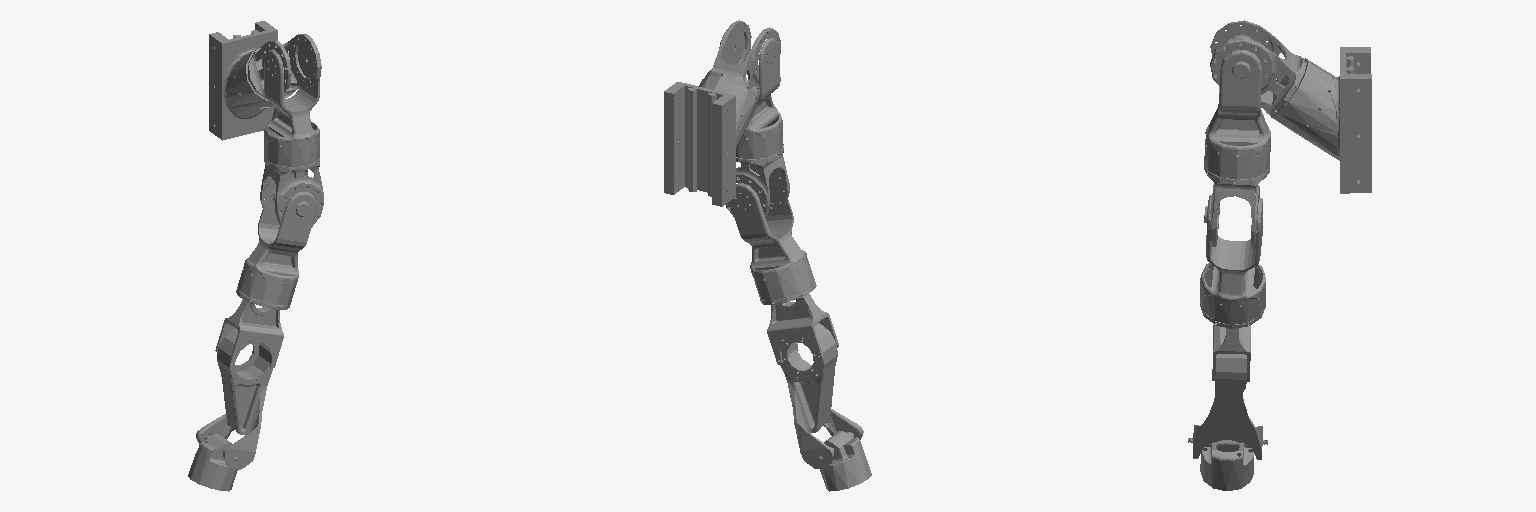
robot.urdf — cadtourdf:
<?xml version="1.0" encoding="UTF-8" standalone="yes"?>
<robot xmlns="http://www.ros.org" name="cadtourdf">
    <link name="Full_arm_assembly_objects_1">
        <inertial>
            <origin xyz="0.14825478496683953 -0.19608051152219394 0.02848715505235634" rpy="0.4606420867906236 1.5475077785970033 -2.4448418688901468"/>
            <mass value="1.0"/>
            <inertia ixx="1.0" ixy="1.0" ixz="1.0" iyy="1.0" iyz="1.0" izz="1.0"/>
        </inertial>
        <visual>
            <origin xyz="0.14825478496683953 -0.19608051152219394 0.02848715505235634" rpy="2.930065924609552 1.5265910824606057 0.0"/>
            <geometry>
                <mesh filename="package://cadtourdf/meshes/Full_arm_assembly_objects_1.stl"/>
            </geometry>
            <material name="material">
                <color rgba="0.6078431372549019 0.6078431372549019 0.6078431372549019 1.0"/>
            </material>
        </visual>
        <collision name="collision">
            <origin xyz="0 0 0" rpy="0.0 -0.0 0.0"/>
        </collision>
    </link>
    <link name="Full_arm_assembly_objects_2">
        <inertial>
            <origin xyz="0.08164181475390311 0.02919123895167336 0.11195876517917515" rpy="0.0 -0.0 0.0"/>
            <mass value="1.0"/>
            <inertia ixx="1.0" ixy="1.0" ixz="1.0" iyy="1.0" iyz="1.0" izz="1.0"/>
        </inertial>
        <visual>
            <origin xyz="0.08164181475390311 0.02919123895167336 0.11195876517917515" rpy="0.024912425269248493 0.06383877616341817 -2.1728304064445934E-19"/>
            <geometry>
                <mesh filename="package://cadtourdf/meshes/Full_arm_assembly_objects_2.stl"/>
            </geometry>
            <material name="material">
                <color rgba="0.6078431372549019 0.6078431372549019 0.6078431372549019 1.0"/>
            </material>
        </visual>
        <collision name="collision">
            <origin xyz="0 0 0" rpy="0.0 -0.0 0.0"/>
        </collision>
    </link>
    <link name="Full_arm_assembly_objects_7">
        <inertial>
            <origin xyz="0.010850971352341879 0.22876306200603636 0.10345274430123955" rpy="0.03773540539250354 -0.021237470378466225 -0.0024089581995568876"/>
            <mass value="1.0"/>
            <inertia ixx="1.0" ixy="1.0" ixz="1.0" iyy="1.0" iyz="1.0" izz="1.0"/>
        </inertial>
        <visual>
            <origin xyz="0.010850971352341879 0.22876306200603636 0.10345274430123955" rpy="0.06267352080905418 0.04255585913443036 -4.340738638118768E-19"/>
            <geometry>
                <mesh filename="package://cadtourdf/meshes/Full_arm_assembly_objects_7.stl"/>
            </geometry>
            <material name="material">
                <color rgba="0.6078431372549019 0.6078431372549019 0.6078431372549019 1.0"/>
            </material>
        </visual>
        <collision name="collision">
            <origin xyz="0 0 0" rpy="0.0 -0.0 0.0"/>
        </collision>
    </link>
    <link name="Full_arm_assembly_objects_4">
        <inertial>
            <origin xyz="0.14825478496683955 -0.19608051152219397 0.028487155052356355" rpy="1.6098130536934434 -0.060250956069110524 -1.6347118831651641"/>
            <mass value="1.0"/>
            <inertia ixx="1.0" ixy="1.0" ixz="1.0" iyy="1.0" iyz="1.0" izz="1.0"/>
        </inertial>
        <visual>
            <origin xyz="0.14825478496683955 -0.19608051152219397 0.028487155052356355" rpy="2.930065924609552 1.5265910824606057 -3.361232057189682E-16"/>
            <geometry>
                <mesh filename="package://cadtourdf/meshes/Full_arm_assembly_objects_4.stl"/>
            </geometry>
            <material name="material">
                <color rgba="0.6078431372549019 0.6078431372549019 0.6078431372549019 1.0"/>
            </material>
        </visual>
        <collision name="collision">
            <origin xyz="0 0 0" rpy="0.0 -0.0 0.0"/>
        </collision>
    </link>
    <link name="Full_arm_assembly_objects_6">
        <inertial>
            <origin xyz="0.01311880359273214 0.6934084995195854 -0.27074839475040463" rpy="-1.5496914654377596 0.009241380414398157 0.355466737212434"/>
            <mass value="1.0"/>
            <inertia ixx="1.0" ixy="1.0" ixz="1.0" iyy="1.0" iyz="1.0" izz="1.0"/>
        </inertial>
        <visual>
            <origin xyz="0.01311880359273214 0.6934084995195854 -0.27074839475040463" rpy="-1.5088836299874304 -0.042085667351902944 -5.556034830792788E-17"/>
            <geometry>
                <mesh filename="package://cadtourdf/meshes/Full_arm_assembly_objects_6.stl"/>
            </geometry>
            <material name="material">
                <color rgba="0.6078431372549019 0.6078431372549019 0.6078431372549019 1.0"/>
            </material>
        </visual>
        <collision name="collision">
            <origin xyz="0 0 0" rpy="0.0 -0.0 0.0"/>
        </collision>
    </link>
    <link name="Full_arm_assembly_objects_5">
        <inertial>
            <origin xyz="0.013118803592732209 -0.6934084995195855 0.18074839475040508" rpy="1.5919011881520353 -0.009241380414397725 -1.9262630640073295"/>
            <mass value="1.0"/>
            <inertia ixx="1.0" ixy="1.0" ixz="1.0" iyy="1.0" iyz="1.0" izz="1.0"/>
        </inertial>
        <visual>
            <origin xyz="0.013118803592732209 -0.6934084995195855 0.18074839475040508" rpy="1.632709023602363 0.04208566735190293 -5.556034830792787E-17"/>
            <geometry>
                <mesh filename="package://cadtourdf/meshes/Full_arm_assembly_objects_5.stl"/>
            </geometry>
            <material name="material">
                <color rgba="0.6078431372549019 0.6078431372549019 0.6078431372549019 1.0"/>
            </material>
        </visual>
        <collision name="collision">
            <origin xyz="0 0 0" rpy="0.0 -0.0 0.0"/>
        </collision>
    </link>
    <link name="Full_arm_assembly_objects_11">
        <inertial>
            <origin xyz="0.013118803592732209 -0.6934084995195848 0.20126839475040445" rpy="1.5919011881520353 -0.009241380414397754 -0.3554667372124328"/>
            <mass value="1.0"/>
            <inertia ixx="1.0" ixy="1.0" ixz="1.0" iyy="1.0" iyz="1.0" izz="1.0"/>
        </inertial>
        <visual>
            <origin xyz="0.013118803592732209 -0.6934084995195848 0.20126839475040445" rpy="1.632709023602363 0.04208566735190294 5.556034830792788E-17"/>
            <geometry>
                <mesh filename="package://cadtourdf/meshes/Full_arm_assembly_objects_11.stl"/>
            </geometry>
            <material name="material">
                <color rgba="0.611764705882353 0.611764705882353 0.611764705882353 1.0"/>
            </material>
        </visual>
        <collision name="collision">
            <origin xyz="0 0 0" rpy="0.0 -0.0 0.0"/>
        </collision>
    </link>
    <link name="Full_arm_assembly_objects_9">
        <inertial>
            <origin xyz="0.228158433072525 -0.012889458887841695 -0.38743892933983676" rpy="-3.123728068059871 0.3372237146760917 -1.6226819447193261"/>
            <mass value="1.0"/>
            <inertia ixx="1.0" ixy="1.0" ixz="1.0" iyy="1.0" iyz="1.0" izz="1.0"/>
        </inertial>
        <visual>
            <origin xyz="-0.22895898999490677 -0.006126189344906066 -0.38544307807983036" rpy="-3.0804469547449624 -0.018211906720774836 -1.5707963267948966"/>
            <geometry>
                <mesh filename="package://cadtourdf/meshes/Full_arm_assembly_objects_10.stl"/>
            </geometry>
            <material name="material">
                <color rgba="0.6078431372549019 0.6078431372549019 0.6078431372549019 1.0"/>
            </material>
        </visual>
        <visual>
            <origin xyz="0.228158433072525 -0.012889458887841695 -0.38743892933983676" rpy="-3.078912959018256 0.018211907922531415 1.5707963275496193"/>
            <geometry>
                <mesh filename="package://cadtourdf/meshes/Full_arm_assembly_objects_9.stl"/>
            </geometry>
            <material name="material">
                <color rgba="0.6078431372549019 0.6078431372549019 0.6078431372549019 1.0"/>
            </material>
        </visual>
        <collision name="collision">
            <origin xyz="0 0 0" rpy="0.0 -0.0 0.0"/>
        </collision>
    </link>
    <link name="Full_arm_assembly_objects_3">
        <inertial>
            <origin xyz="0.0065820729423399504 -0.048961325255950816 0.1509371679369574" rpy="2.1816658196716867 0.0034860496814112696 -0.05231052237339786"/>
            <mass value="1.0"/>
            <inertia ixx="1.0" ixy="1.0" ixz="1.0" iyy="1.0" iyz="1.0" izz="1.0"/>
        </inertial>
        <visual>
            <origin xyz="0.0065820729423399504 -0.048961325255950816 0.1509371679369574" rpy="2.2058029179300256 -0.033118664244788994 -1.3885402185169675E-17"/>
            <geometry>
                <mesh filename="package://cadtourdf/meshes/Full_arm_assembly_objects_3.stl"/>
            </geometry>
            <material name="material">
                <color rgba="0.6078431372549019 0.6078431372549019 0.6078431372549019 1.0"/>
            </material>
        </visual>
        <collision name="collision">
            <origin xyz="0 0 0" rpy="0.0 -0.0 0.0"/>
        </collision>
    </link>
    <link name="Full_arm_assembly_objects_8">
        <inertial>
            <origin xyz="0.012814925744445038 -0.6936130159249052 0.1627483947504045" rpy="1.5919011881520324 -0.009241380414398735 -0.35546673721243394"/>
            <mass value="1.0"/>
            <inertia ixx="1.0" ixy="1.0" ixz="1.0" iyy="1.0" iyz="1.0" izz="1.0"/>
        </inertial>
        <visual>
            <origin xyz="0.012814925744445038 -0.6936130159249052 0.1627483947504045" rpy="1.632709023602363 0.042085667351902924 5.556034830792787E-17"/>
            <geometry>
                <mesh filename="package://cadtourdf/meshes/Full_arm_assembly_objects_8.stl"/>
            </geometry>
            <material name="material">
                <color rgba="0.6078431372549019 0.6078431372549019 0.6078431372549019 1.0"/>
            </material>
        </visual>
        <collision name="collision">
            <origin xyz="0 0 0" rpy="0.0 -0.0 0.0"/>
        </collision>
    </link>
    <joint name="Revolute 1" type="revolute">
        <origin xyz="0.07252985614512537 -0.12108773716439052 0.1579312200714562" rpy="-2.1823663328590364 0.04484241983375603 -0.027169550450738187"/>
        <parent link="Full_arm_assembly_objects_2"/>
        <child link="Full_arm_assembly_objects_3"/>
        <axis xyz="0 0 1"/>
        <limit lower="-1.5707963267948966" upper="2.0943951023931953" effort="10.0" velocity="1.0"/>
    </joint>
    <joint name="Revolute 2" type="revolute">
        <origin xyz="0.03648435044243831 -0.0010687248445469116 -0.09000000000001063" rpy="-1.5707963267948968 -0.8470183278458912 1.541512008681992"/>
        <parent link="Full_arm_assembly_objects_3"/>
        <child link="Full_arm_assembly_objects_1"/>
        <axis xyz="0 0 1"/>
        <limit lower="0.0" upper="3.141592653589793" effort="10.0" velocity="1.0"/>
    </joint>
    <joint name="Revolute 3" type="revolute">
        <origin xyz="0.18352467688417726 0.05157238099191666 0.036599999999999716" rpy="1.5707963267948948 1.5588301691122417 -1.2968507335360855"/>
        <parent link="Full_arm_assembly_objects_1"/>
        <child link="Full_arm_assembly_objects_7"/>
        <axis xyz="0 0 1"/>
        <limit lower="-1.5707963267948966" upper="1.5707963267948966" effort="10.0" velocity="1.0"/>
    </joint>
    <joint name="Revolute 4" type="revolute">
        <origin xyz="-0.0022860862098287027 -0.03642833800547618 -0.09000000000001053" rpy="1.570796326794896 1.528156852912699 3.0789191327940832"/>
        <parent link="Full_arm_assembly_objects_7"/>
        <child link="Full_arm_assembly_objects_4"/>
        <axis xyz="0 0 1"/>
        <limit lower="-0.29670597283903605" upper="2.0943951023931953" effort="10.0" velocity="1.0"/>
    </joint>
    <joint name="Revolute 5" type="revolute">
        <origin xyz="0.1825619659006806 0.05130184899333794 0.036599999999999716" rpy="-1.570796326794989 1.5588301691122417 -1.2968507335359933"/>
        <parent link="Full_arm_assembly_objects_4"/>
        <child link="Full_arm_assembly_objects_9"/>
        <axis xyz="0 0 1"/>
        <limit lower="-1.5707963267948966" upper="1.5707963267948966" effort="10.0" velocity="1.0"/>
    </joint>
    <joint name="Revolute 6" type="revolute">
        <origin xyz="1.1102230246251565E-16 3.469446951953614E-16 -0.019999999999999962" rpy="0.0 3.0357660829594106E-17 -1.5707963267948968"/>
        <parent link="Full_arm_assembly_objects_5"/>
        <child link="Full_arm_assembly_objects_11"/>
        <axis xyz="0 0 1"/>
        <limit lower="-1.0471975511965976" upper="1.0471975511965976" effort="10.0" velocity="1.0"/>
    </joint>
    <joint name="Planar 2" type="planar">
        <origin xyz="-0.04237025002388589 -0.001973722271055925 0.3060934936872552" rpy="-1.570796340451816 -1.552568276687783 1.528703689414869"/>
        <parent link="Full_arm_assembly_objects_9"/>
        <child link="Full_arm_assembly_objects_5"/>
    </joint>
    <joint name="Planar 3" type="planar">
        <origin xyz="0.047550031140382115 -0.0057609422723987475 0.30609349370965916" rpy="-1.5707963265459288 -0.018228050107123753 -1.6128889778340652"/>
        <parent link="Full_arm_assembly_objects_9"/>
        <child link="Full_arm_assembly_objects_6"/>
    </joint>
    <joint name="Planar 4" type="planar">
        <origin xyz="-0.06035430625674032 -0.001216278270788712 0.30609349368277444" rpy="1.5707963270438658 -0.018228050107123583 -1.612888977834065"/>
        <parent link="Full_arm_assembly_objects_9"/>
        <child link="Full_arm_assembly_objects_8"/>
    </joint>
</robot>

--- Render facts (derived) ---
Views: 3 orthographic renders of the robot side by side, from view 1: azimuth 30°, elevation 25°; view 2: azimuth 150°, elevation 25°; view 3: azimuth 270°, elevation 25°.
Robot: cadtourdf — 10 links, 9 joints (6 revolute, 3 planar); root link Full_arm_assembly_objects_2; default pose: all joints at 0.
Visible links, largest first — view 1: Full_arm_assembly_objects_9, Full_arm_assembly_objects_2, Full_arm_assembly_objects_4, Full_arm_assembly_objects_1, Full_arm_assembly_objects_3, Full_arm_assembly_objects_7, Full_arm_assembly_objects_11; view 2: Full_arm_assembly_objects_2, Full_arm_assembly_objects_9, Full_arm_assembly_objects_4, Full_arm_assembly_objects_1, Full_arm_assembly_objects_3, Full_arm_assembly_objects_7, Full_arm_assembly_objects_11; view 3: Full_arm_assembly_objects_2, Full_arm_assembly_objects_1, Full_arm_assembly_objects_9, Full_arm_assembly_objects_4, Full_arm_assembly_objects_3, Full_arm_assembly_objects_11, Full_arm_assembly_objects_7.
Link boxes in pixels (x1=…): Full_arm_assembly_objects_9: x1=196, y1=288, x2=290, y2=469; Full_arm_assembly_objects_2: x1=209, y1=21, x2=291, y2=140; Full_arm_assembly_objects_4: x1=237, y1=179, x2=316, y2=305; Full_arm_assembly_objects_1: x1=264, y1=50, x2=319, y2=166; Full_arm_assembly_objects_3: x1=248, y1=34, x2=321, y2=98; Full_arm_assembly_objects_7: x1=260, y1=157, x2=323, y2=226; Full_arm_assembly_objects_11: x1=188, y1=434, x2=237, y2=491; Full_arm_assembly_objects_2: x1=664, y1=76, x2=756, y2=206; Full_arm_assembly_objects_9: x1=760, y1=282, x2=863, y2=468; Full_arm_assembly_objects_4: x1=730, y1=183, x2=814, y2=300; Full_arm_assembly_objects_1: x1=736, y1=38, x2=783, y2=158; Full_arm_assembly_objects_3: x1=705, y1=20, x2=780, y2=102; Full_arm_assembly_objects_7: x1=725, y1=136, x2=789, y2=217; Full_arm_assembly_objects_11: x1=820, y1=431, x2=871, y2=491; Full_arm_assembly_objects_2: x1=1270, y1=47, x2=1371, y2=193; Full_arm_assembly_objects_1: x1=1204, y1=31, x2=1270, y2=179; Full_arm_assembly_objects_9: x1=1193, y1=286, x2=1265, y2=459; Full_arm_assembly_objects_4: x1=1200, y1=195, x2=1265, y2=324; Full_arm_assembly_objects_3: x1=1210, y1=20, x2=1306, y2=115; Full_arm_assembly_objects_11: x1=1200, y1=440, x2=1253, y2=490; Full_arm_assembly_objects_7: x1=1204, y1=155, x2=1269, y2=248.
Bounding box of the posed robot: 0.2913 × 0.2914 × 0.8806 m (x, y, z).
Meshes: 11 distinct files referenced, 11 mesh visuals loaded (11 ASCII STL).